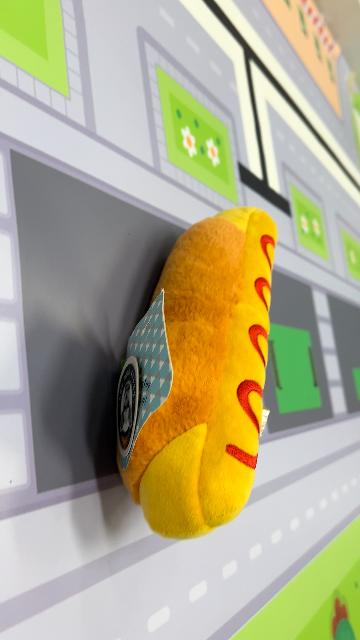hotdog: (114, 204, 280, 542)
